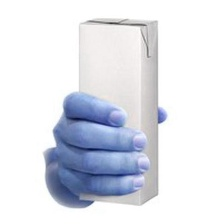carton: (71, 11, 170, 209)
